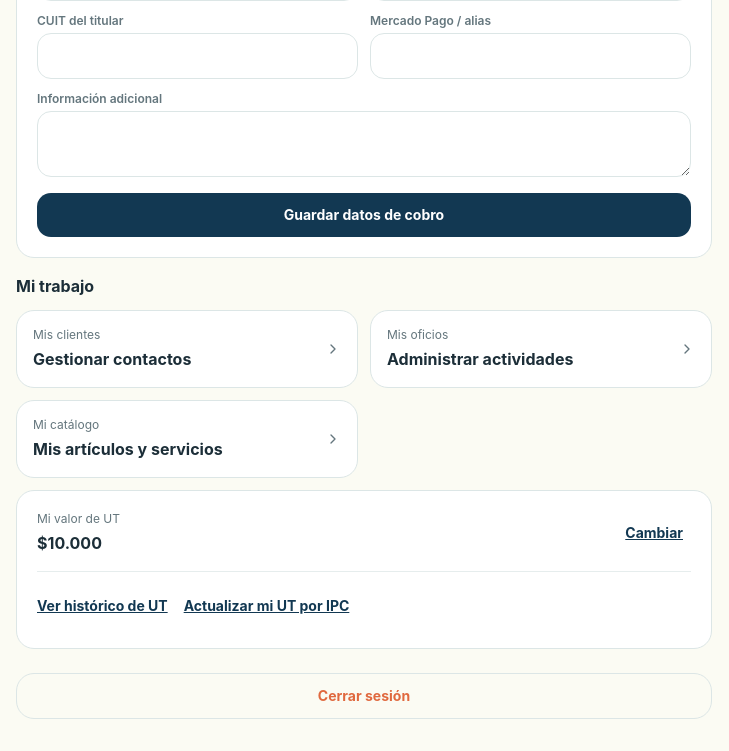
Test: Mi perfil: ajuste por IPC en pantalla › muestra el cálculo, pide confirmación y aplica una sola vez
This screenshot has width=729, height=751.
(page scrolled)
Click the button "Actualizar mi UT por IPC". click: (267,606)
box: [184,584,349,628]
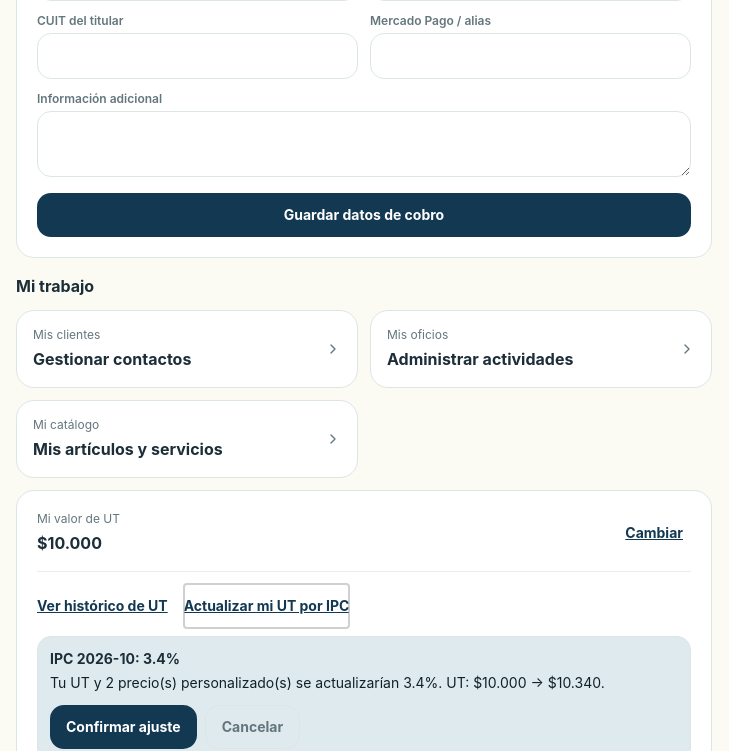
Now the element named "Confirmar ajuste por IPC" shows "2 precio(s) personalizado(s)", box [90,674,292,691]
Click the button "Confirmar ajuste". click: (123,727)
box: [50,705,197,749]
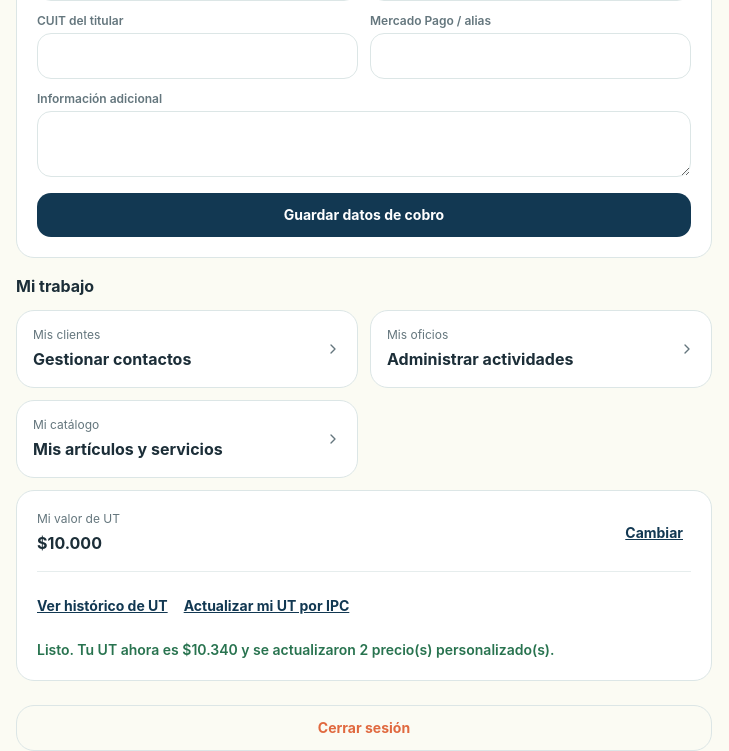
Now the message shows "se actualizaron 2 precio", box [37,641,554,658]
